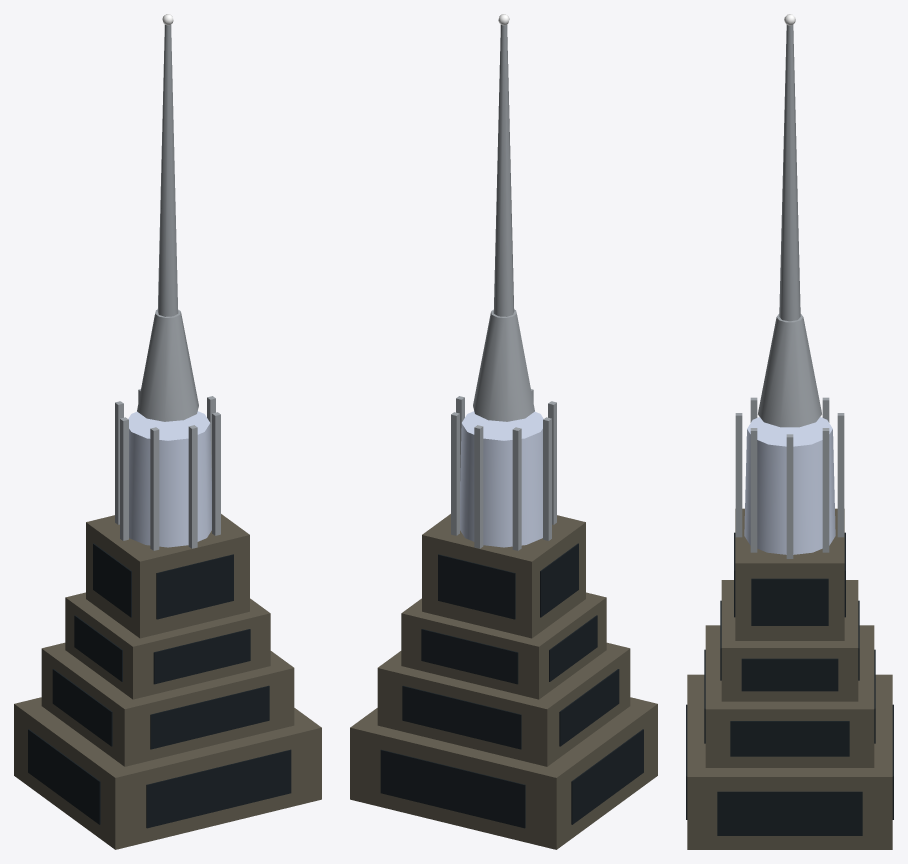
File: ESB_CROWN.glb
The picture shows the model from 3 angles, left to right: view 1: azimuth 30°, elevation 25°; view 2: azimuth 150°, elevation 25°; view 3: azimuth 270°, elevation 25°; orthographic projection.
Parts seen in each view (by area): view 1: concreteProp_0, glass_1, steel_2, screen_3; view 2: concreteProp_0, glass_1, steel_2, screen_3; view 3: concreteProp_0, glass_1, steel_2, screen_3.
Boxes of the visible parts, bbox=[...] form: concreteProp_0: bbox=[14, 514, 321, 849]; glass_1: bbox=[28, 543, 291, 828]; steel_2: bbox=[115, 24, 220, 550]; screen_3: bbox=[128, 411, 211, 547]; concreteProp_0: bbox=[350, 514, 657, 849]; glass_1: bbox=[380, 543, 643, 828]; steel_2: bbox=[451, 24, 556, 550]; screen_3: bbox=[460, 411, 543, 547]; concreteProp_0: bbox=[687, 508, 892, 849]; glass_1: bbox=[686, 532, 893, 835]; steel_2: bbox=[735, 24, 844, 558]; screen_3: bbox=[744, 417, 835, 554].
Size of the model in its own units: 9.09 by 32.22 by 7.74.
